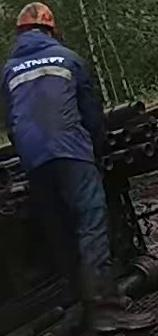helmet: (15, 0, 55, 30)
vest: (1, 30, 96, 171)
